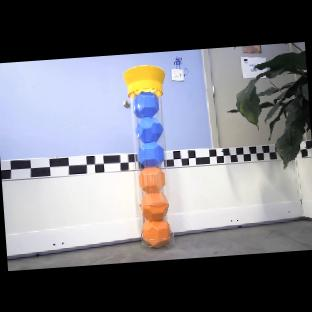Loader: (123, 63, 177, 249)
V5_BLUE: (134, 115, 163, 143), (137, 141, 165, 168), (131, 90, 159, 117)
V5_RED: (140, 191, 169, 221), (141, 219, 171, 248), (138, 166, 166, 194)
